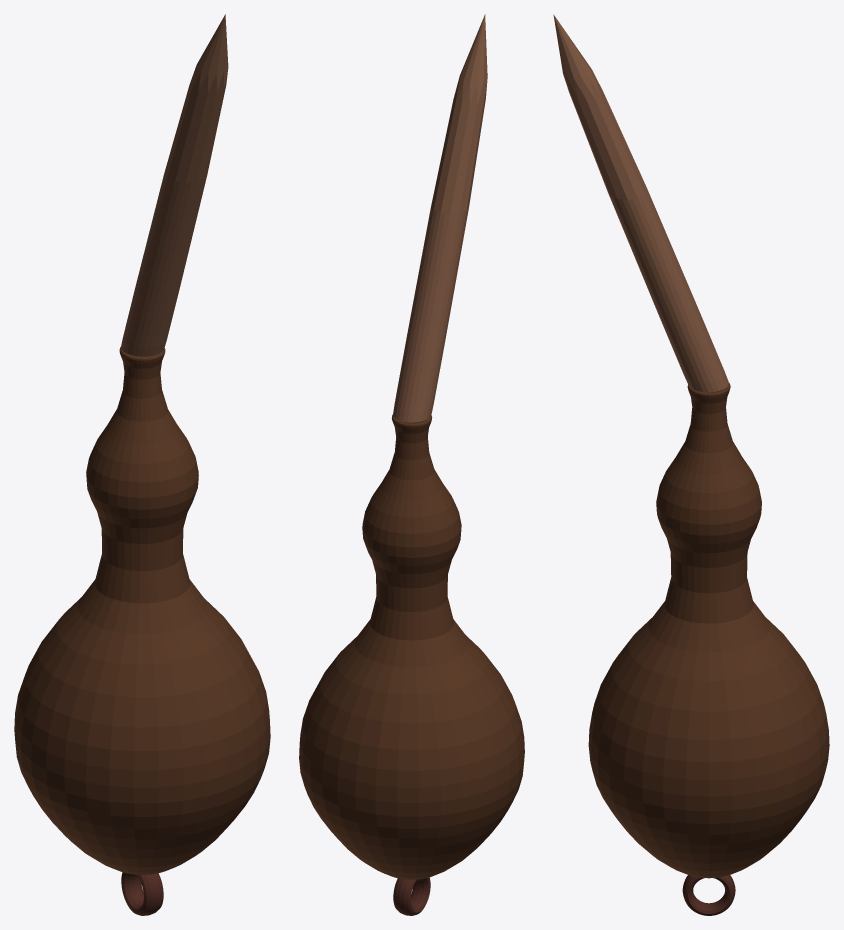
File: Wand 691.glb
The picture shows the model from 3 angles, left to right: view 1: azimuth 30°, elevation 25°; view 2: azimuth 150°, elevation 25°; view 3: azimuth 270°, elevation 25°; orthographic projection. The views are drawn at different scales.
Visible parts, largest first — view 1: GeneratedWand; view 2: GeneratedWand; view 3: GeneratedWand.
Boxes of the visible parts, x1=… form: GeneratedWand: x1=14, y1=14, x2=270, y2=915; GeneratedWand: x1=299, y1=14, x2=524, y2=915; GeneratedWand: x1=553, y1=14, x2=829, y2=915.
Bounding box in the file's own units: 0.123 × 0.5071 × 0.141.
